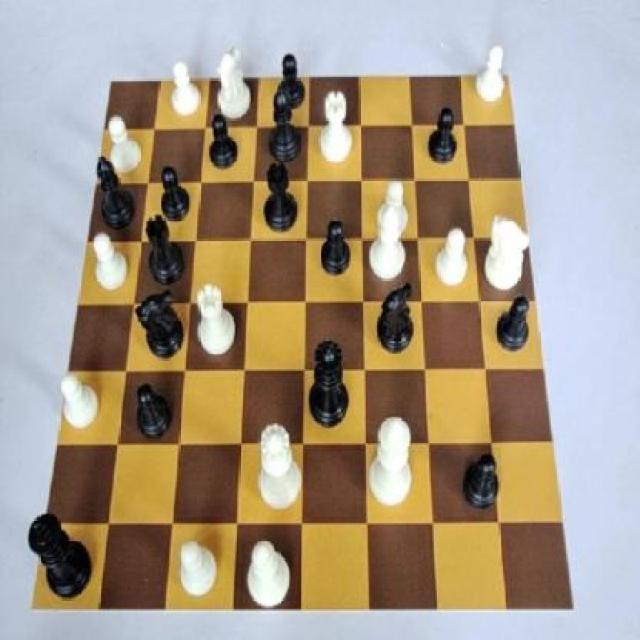bishop: (88, 152, 142, 233), (265, 78, 310, 167)
black-bishop: (17, 496, 101, 610)
black-king: (131, 286, 193, 364), (374, 278, 420, 359)
black-knight: (458, 443, 511, 519), (152, 160, 202, 225), (492, 288, 538, 358), (315, 210, 358, 282), (423, 97, 465, 169), (131, 379, 176, 446), (204, 110, 243, 178), (271, 44, 311, 110)
black-pawn: (303, 330, 355, 438)
black-queen: (138, 208, 192, 289), (257, 155, 304, 238)
black-rook: (240, 524, 301, 618), (368, 202, 408, 286)
white-bishop: (364, 399, 420, 516)
white-king: (483, 204, 534, 296), (211, 45, 256, 127)
white-knight: (84, 228, 136, 298), (54, 363, 104, 434), (174, 529, 221, 603), (432, 217, 475, 295), (100, 111, 149, 175), (472, 37, 512, 112), (374, 174, 415, 238), (164, 59, 203, 122)
white-pawn: (254, 416, 308, 518)
white-queen: (312, 85, 363, 172), (192, 280, 240, 362)
